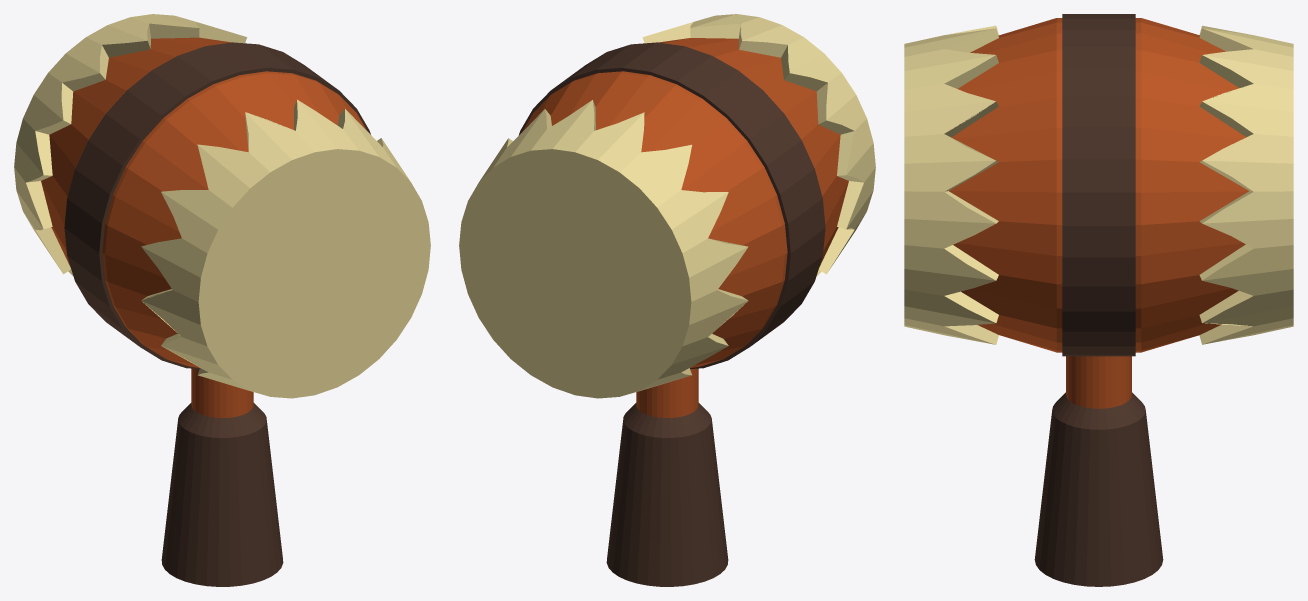
File: hammer.fbx
3 views of the same model, side by side, from view 1: azimuth 30°, elevation 25°; view 2: azimuth 150°, elevation 25°; view 3: azimuth 270°, elevation 25° (orthographic). The views are drawn at different scales.
Parts seen in each view (by area): view 1: Cylinder.004, Cylinder.001, Cylinder.002, Cylinder, Cylinder.003, Cylinder.005; view 2: Cylinder.003, Cylinder.001, Cylinder.002, Cylinder, Cylinder.004, Cylinder.005; view 3: Cylinder.001, Cylinder, Cylinder.004, Cylinder.003, Cylinder.002, Cylinder.005.
Part boxes in pixels (x1,y1,x2,y2): Cylinder.004: [141, 99, 430, 398]; Cylinder.001: [41, 37, 366, 367]; Cylinder.002: [161, 403, 283, 586]; Cylinder: [64, 42, 370, 368]; Cylinder.003: [14, 14, 247, 276]; Cylinder.005: [191, 368, 253, 417]; Cylinder.003: [459, 100, 748, 398]; Cylinder.001: [522, 38, 848, 367]; Cylinder.002: [606, 403, 728, 586]; Cylinder: [518, 42, 825, 368]; Cylinder.004: [642, 14, 875, 276]; Cylinder.005: [636, 368, 698, 417]; Cylinder.001: [949, 18, 1248, 352]; Cylinder: [1062, 14, 1135, 356]; Cylinder.004: [904, 25, 998, 344]; Cylinder.003: [1199, 25, 1293, 344]; Cylinder.002: [1034, 392, 1163, 586]; Cylinder.005: [1066, 356, 1131, 408].
Size of the model in its own units: 266 by 453 by 302.
